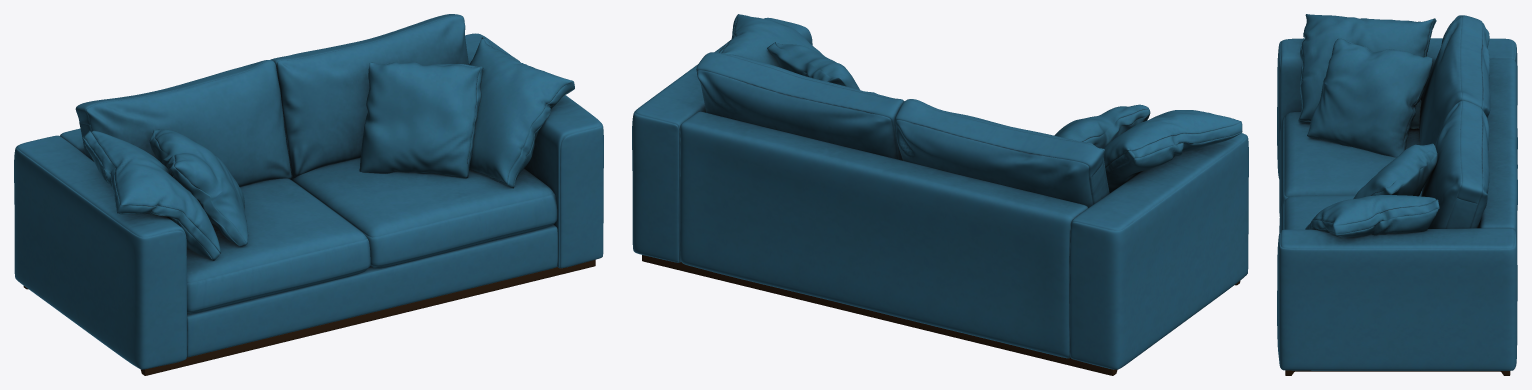
Rendered from trento-ocean-blue.glb.
3 renders of one model, left to right at view 1: azimuth 30°, elevation 25°; view 2: azimuth 150°, elevation 25°; view 3: azimuth 270°, elevation 25°, orthographic. The views are drawn at different scales.
Parts seen in each view (by area): view 1: back up pillow.003, Pillow.004, frame.003; view 2: back up pillow.003, Pillow.004, frame.003; view 3: back up pillow.003, Pillow.004, frame.003.
Boxes of the visible parts, x1=… form: back up pillow.003: x1=14, y1=14, x2=603, y2=369; Pillow.004: x1=83, y1=37, x2=574, y2=260; frame.003: x1=23, y1=259, x2=595, y2=375; back up pillow.003: x1=632, y1=17, x2=1248, y2=369; Pillow.004: x1=719, y1=14, x2=1242, y2=192; frame.003: x1=642, y1=255, x2=1240, y2=375; back up pillow.003: x1=1277, y1=15, x2=1517, y2=370; Pillow.004: x1=1298, y1=14, x2=1439, y2=237; frame.003: x1=1285, y1=370, x2=1510, y2=375.
Size of the model in its own units: 2.29 by 0.886 by 1.09.
3 materials, 2 textured.
